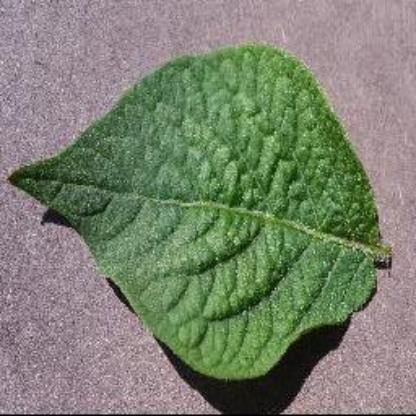Healthy-plant: (6, 40, 396, 386)
